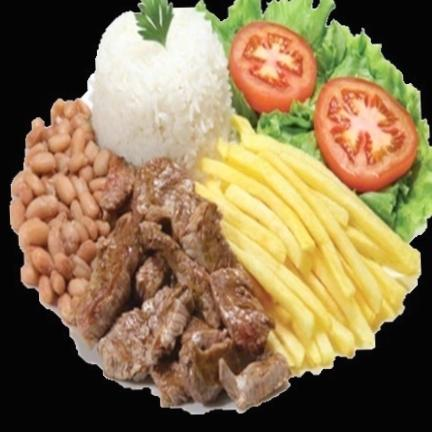beans: (11, 100, 110, 316)
meat: (76, 158, 288, 404)
potato: (196, 116, 419, 370)
rice: (91, 0, 232, 177)
salad: (198, 0, 432, 241)
tomato: (313, 78, 417, 191), (230, 21, 316, 113)
